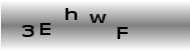3: (20, 24, 34, 38)
E: (39, 22, 51, 36)
F: (115, 25, 129, 39)
h: (64, 6, 78, 21)
w: (89, 13, 106, 24)
